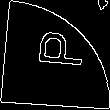P_W: (26, 34, 84, 76)
